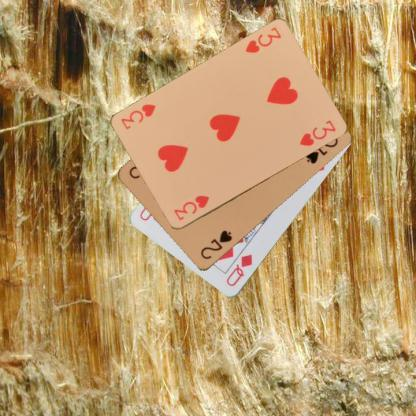2s: (198, 228, 233, 261)
3h: (242, 24, 283, 55), (171, 192, 211, 223)
Qd: (224, 252, 254, 288)
